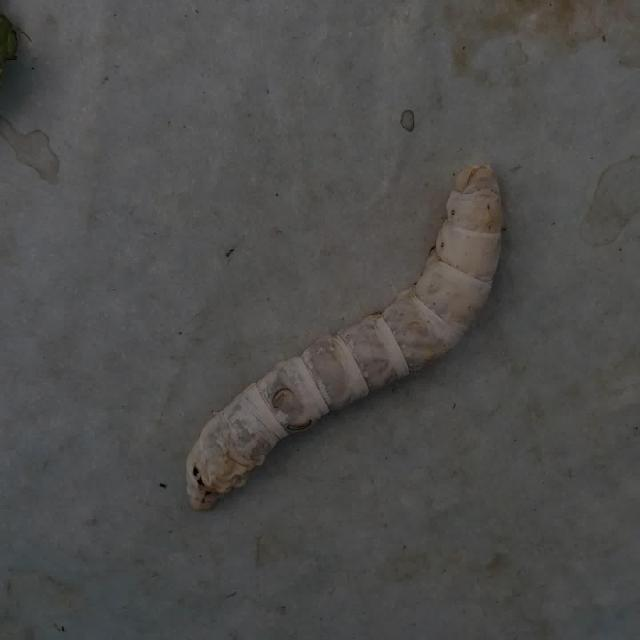Grasserie: (160, 142, 540, 520)
